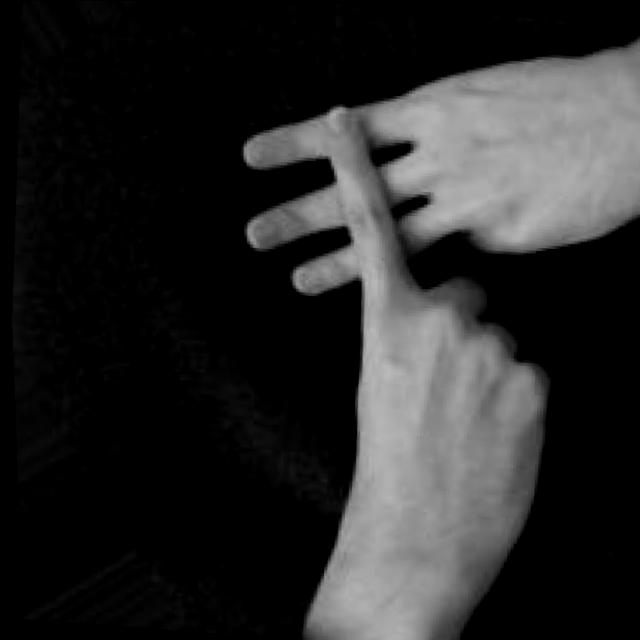E: (203, 48, 640, 640)
